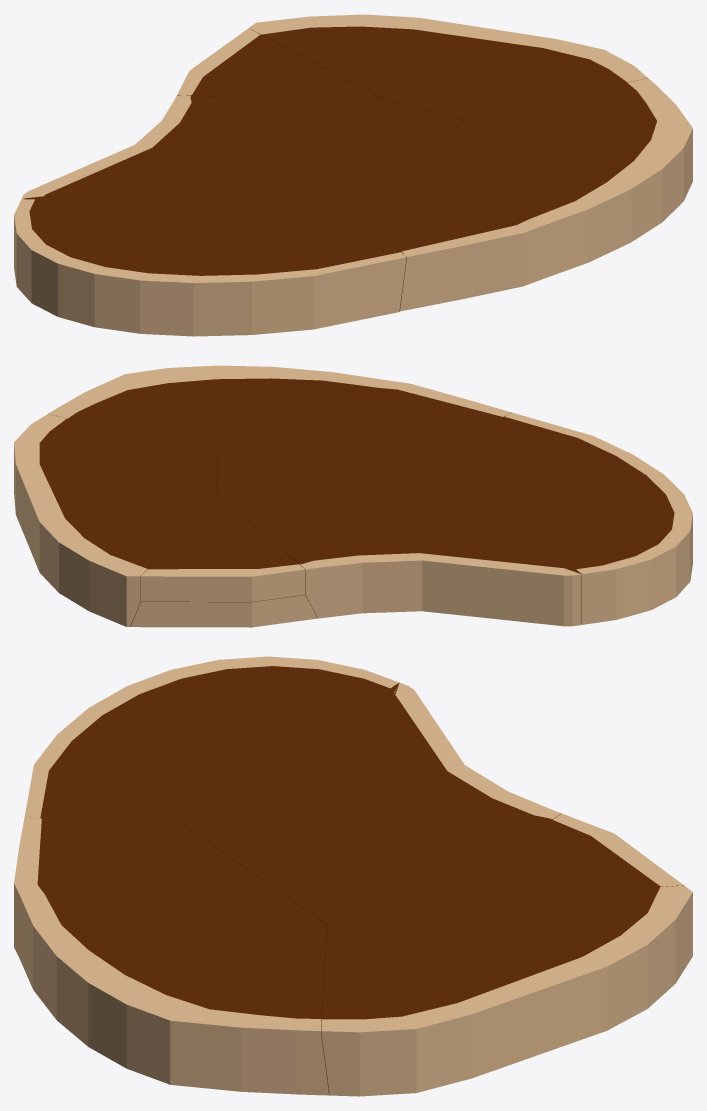
File: steak_cooked_cut.fbx
3 views of the same model, one above another, from view 1: azimuth 30°, elevation 25°; view 2: azimuth 150°, elevation 25°; view 3: azimuth 270°, elevation 25° (orthographic). The views are drawn at different scales.
Parts seen in each view (by area): view 1: Cylinder.001_cell.002, Cylinder.001_cell.004, Cylinder.001_cell.001, Cylinder.001_cell, Cylinder.001_cell.005; view 2: Cylinder.001_cell.001, Cylinder.001_cell.002, Cylinder.001_cell.004, Cylinder.001_cell, Cylinder.001_cell.005, Cylinder.001_cell.003; view 3: Cylinder.001_cell.002, Cylinder.001_cell, Cylinder.001_cell.001, Cylinder.001_cell.004, Cylinder.001_cell.005.
Boxes of the visible parts, x1=… form: Cylinder.001_cell.002: x1=354, y1=78, x2=692, y2=311; Cylinder.001_cell.004: x1=14, y1=199, x2=406, y2=336; Cylinder.001_cell.001: x1=21, y1=95, x2=463, y2=205; Cylinder.001_cell: x1=249, y1=14, x2=647, y2=120; Cylinder.001_cell.005: x1=177, y1=28, x2=385, y2=100; Cylinder.001_cell.001: x1=217, y1=455, x2=581, y2=626; Cylinder.001_cell.002: x1=48, y1=365, x2=511, y2=464; Cylinder.001_cell.004: x1=437, y1=412, x2=692, y2=624; Cylinder.001_cell: x1=14, y1=414, x2=217, y2=626; Cylinder.001_cell.005: x1=141, y1=494, x2=305, y2=601; Cylinder.001_cell.003: x1=130, y1=595, x2=317, y2=627; Cylinder.001_cell.002: x1=14, y1=817, x2=329, y2=1095; Cylinder.001_cell: x1=321, y1=885, x2=692, y2=1096; Cylinder.001_cell.001: x1=183, y1=682, x2=561, y2=925; Cylinder.001_cell.004: x1=24, y1=656, x2=399, y2=824; Cylinder.001_cell.005: x1=423, y1=813, x2=683, y2=902.
Bounding box in the file's own units: 409 × 32.59 × 313.
